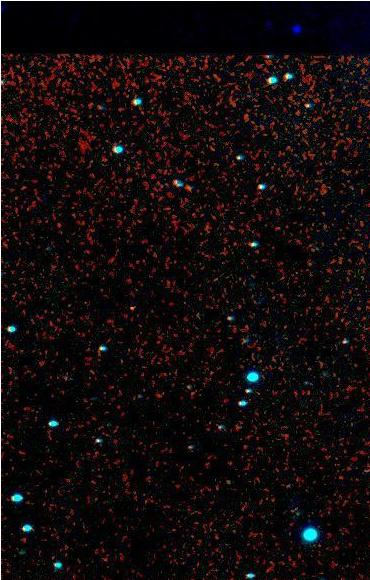star: (117, 293, 147, 323)
